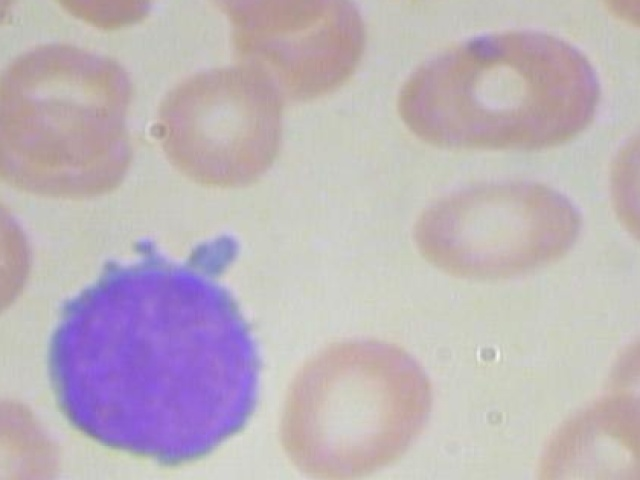RBC: (264, 328, 444, 480), (389, 23, 570, 156), (407, 160, 589, 281), (148, 57, 301, 193), (0, 34, 145, 163), (520, 392, 640, 480), (186, 0, 345, 37), (599, 319, 640, 451), (0, 389, 57, 480), (607, 110, 640, 267), (31, 0, 177, 32), (581, 0, 640, 36), (0, 0, 36, 43), (477, 474, 621, 480), (334, 0, 500, 3), (0, 167, 2, 295)
WBC: (17, 215, 290, 480)
